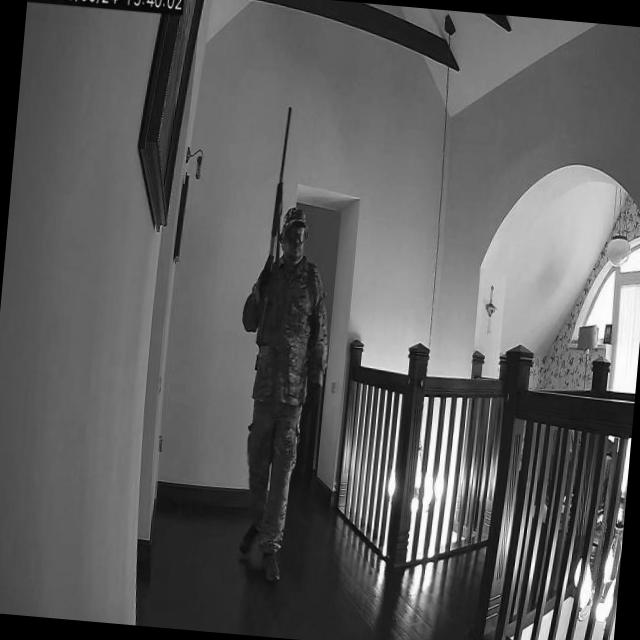gun: (258, 103, 295, 344)
person with a gun: (235, 101, 345, 594)
